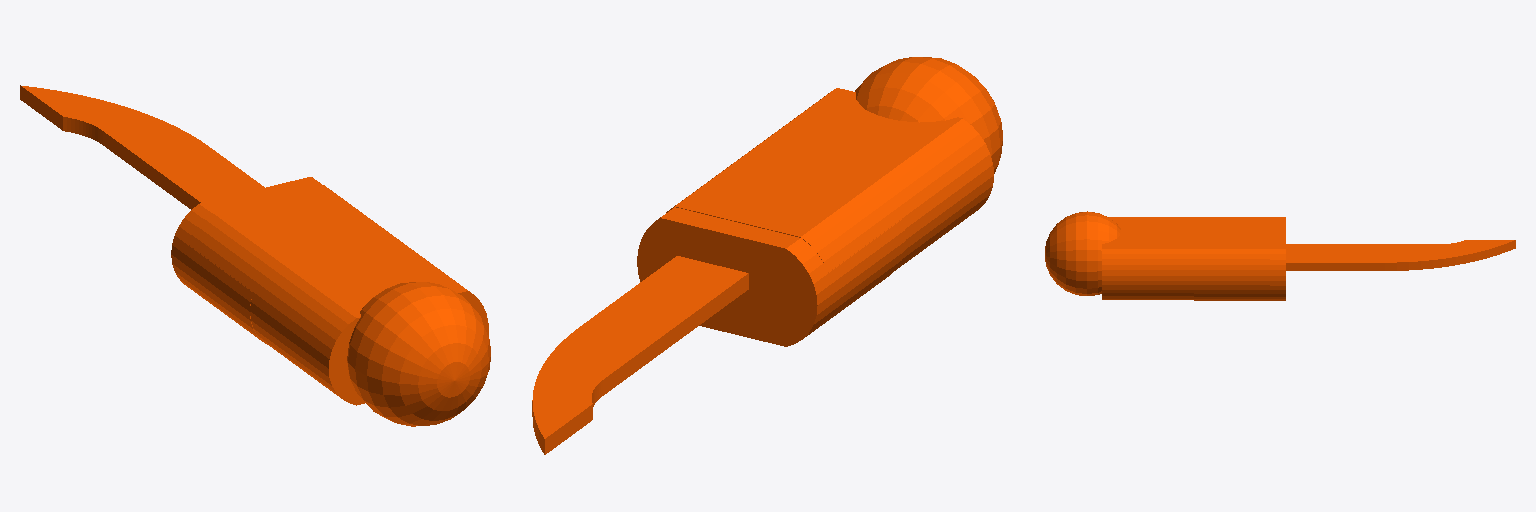
URDF robot description (Knife_413):
<?xml version="1.0" ?>
<robot name="Knife_413">
   <material name="obj_color">
      <color rgba="1.0 0.423529411765 0.0392156862745 1.0"/>
   </material>
   <link name="top">
      <inertial>
         <origin rpy="0.0001676730439706043 0.0007011394804593645 0.0007593838416348104" xyz="0.000129364219827563 -0.02275133530658413 0.0008102681156998338"/>
         <mass value="0.3765297587722914"/>
         <inertia ixx="0.0007011058194299519" ixy="-4.290986914563814e-06" ixz="3.011279938851552e-07" iyy="0.0001678604506975586" iyz="9.507724539902534e-06" izz="0.0007592300959372688"/>
      </inertial>
      <visual>
         <origin rpy="0 0 0" xyz="0 0 0"/>
         <geometry>
            <mesh filename="top_watertight_tiny.stl" scale="1 1 1"/>
         </geometry>
         <material name="obj_color"/>
      </visual>
      <collision>
         <origin rpy="0 0 0" xyz="0 0 0"/>
         <geometry>
            <mesh filename="top_watertight_tiny.obj" scale="1 1 1"/>
         </geometry>
      </collision>
   </link>
   <link name="bottom">
      <inertial>
         <origin rpy="1.656364183228969e-06 3.244291199813748e-05 3.396411007041666e-05" xyz="0.002006040653752818 0.1167587670760021 0.002513"/>
         <mass value="0.0225276851583"/>
         <inertia ixx="3.217772711720847e-05" ixy="2.844961158862853e-06" ixz="8.866342190802765e-23" iyy="1.921549064157973e-06" iyz="-1.621274000603934e-21" izz="3.396411007041666e-05"/>
      </inertial>
      <visual>
         <origin rpy="0 0 0" xyz="0 0 0"/>
         <geometry>
            <mesh filename="bottom_watertight_tiny.stl" scale="1 1 1"/>
         </geometry>
         <material name="obj_color"/>
      </visual>
      <collision>
         <origin rpy="0 0 0" xyz="0 0 0"/>
         <geometry>
            <mesh filename="bottom_watertight_tiny.obj" scale="1 1 1"/>
         </geometry>
      </collision>
   </link>
   <link name="world"/>
   <joint name="world_to_base" type="fixed">
      <origin xyz="0 0 0"/>
      <axis xyz="0 0 0"/>
      <parent link="world"/>
      <child link="bottom"/>
   </joint>
   <joint name="rotation" type="revolute">
      <origin xyz="0 0 0"/>
      <axis xyz="0 0 -1"/>
      <parent link="bottom"/>
      <child link="top"/>
      <dynamics damping="1.0" friction="1.0"/>
      <limit effort="0.1" velocity="0.1" lower="0" upper="0.001"/>
   </joint>
</robot>

--- Render facts (derived) ---
3 views of the same robot in one strip: view 1: azimuth 30°, elevation 25°; view 2: azimuth 150°, elevation 25°; view 3: azimuth 270°, elevation 25° (orthographic).
Robot: Knife_413 — 3 links, 2 joints (1 revolute, 1 fixed); root link world; default pose: all joints at 0.
Visible links, largest first — view 1: top, bottom; view 2: top, bottom; view 3: top, bottom.
Boxes of the visible links, box(x1,y1,x2,y2) form: top: box(171, 177, 490, 426); bottom: box(20, 85, 264, 209); top: box(637, 57, 1002, 346); bottom: box(532, 256, 748, 454); top: box(1045, 211, 1285, 300); bottom: box(1286, 240, 1515, 270).
Bounding box of the posed robot: 0.07 × 0.304 × 0.0551 m (x, y, z).
2 mesh visuals loaded from 2 distinct referenced files (2 binary STL).
